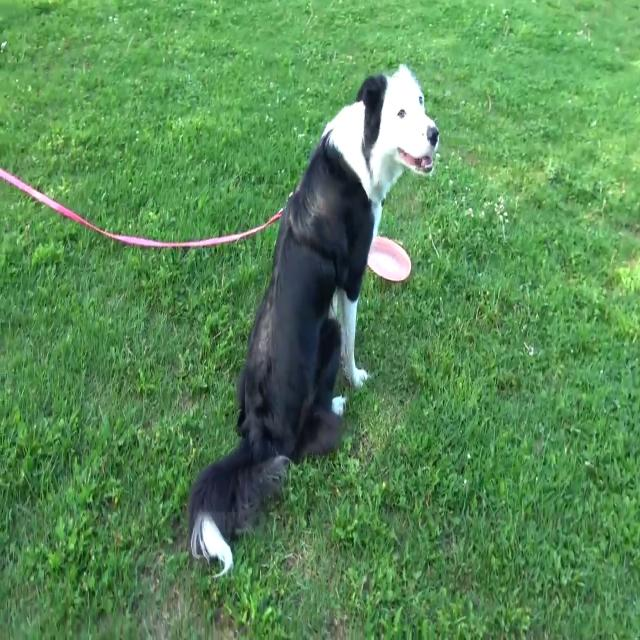Dog: (187, 63, 440, 581)
